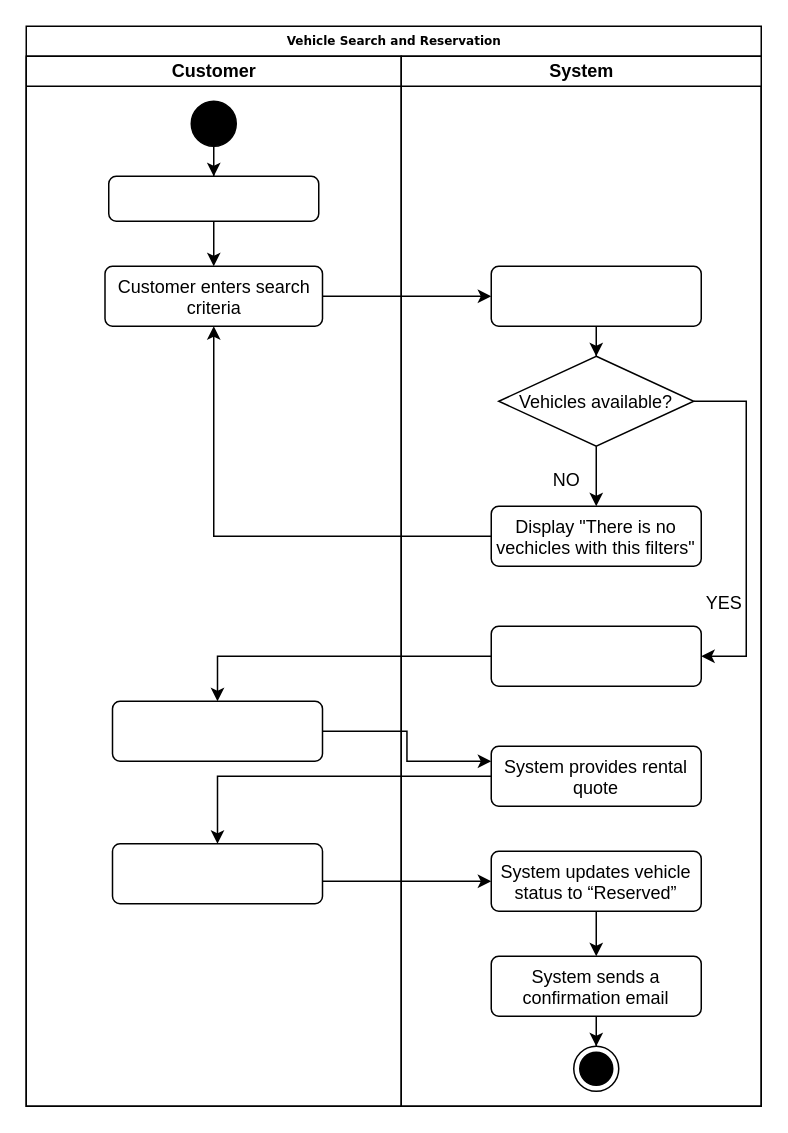
This 788x1133 diagram has some shape labels left out. The shapes that lost their labels are listed below. From the top down, each one's centre as x and y in pixels, then its label:
the point at 213,198: Customer logs in
the point at 595,295: System filters vehicles based on criteria
the point at 595,655: System displays filtered vehicles
the point at 216,730: Customer selects a vehicle
the point at 216,873: Customer confirms reservation
